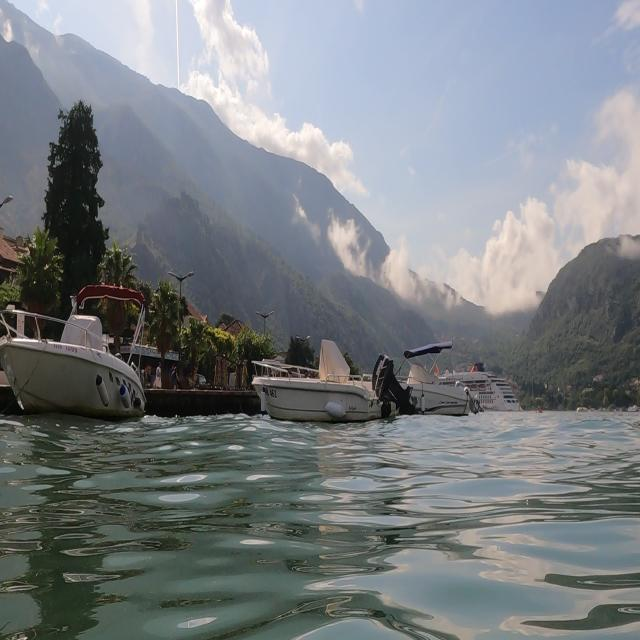boat: (1, 280, 149, 423), (245, 328, 422, 439), (376, 329, 485, 425), (432, 356, 534, 424)
